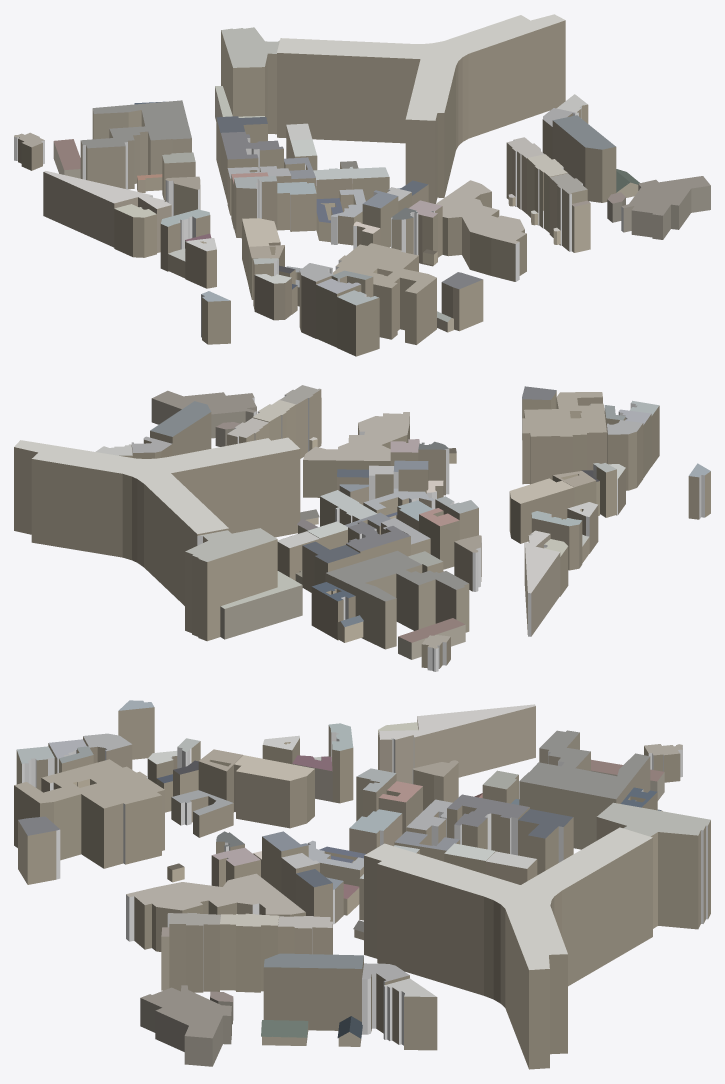
3 renders of one model, top to bottom at view 1: azimuth 30°, elevation 25°; view 2: azimuth 150°, elevation 25°; view 3: azimuth 270°, elevation 25°, orthographic. The views are drawn at different scales.
Parts seen in each view (by area): view 1: tuile; view 2: tuile; view 3: tuile.
Boxes of the visible parts, x1,y1,x2,y2 form: tuile: (14, 14, 710, 356); tuile: (14, 385, 710, 671); tuile: (14, 700, 710, 1069).
Size of the model in its own units: 272 by 41.65 by 265.
